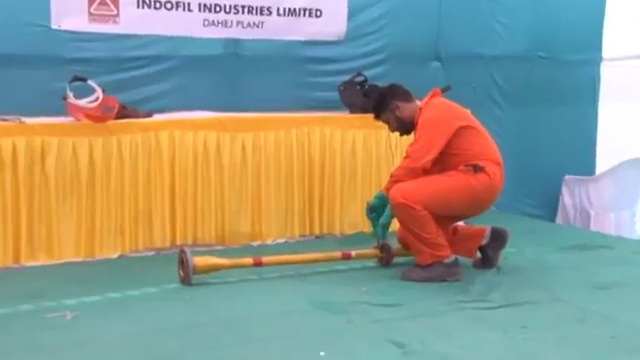helmet_off: (375, 83, 419, 138)
person: (368, 75, 507, 287)
